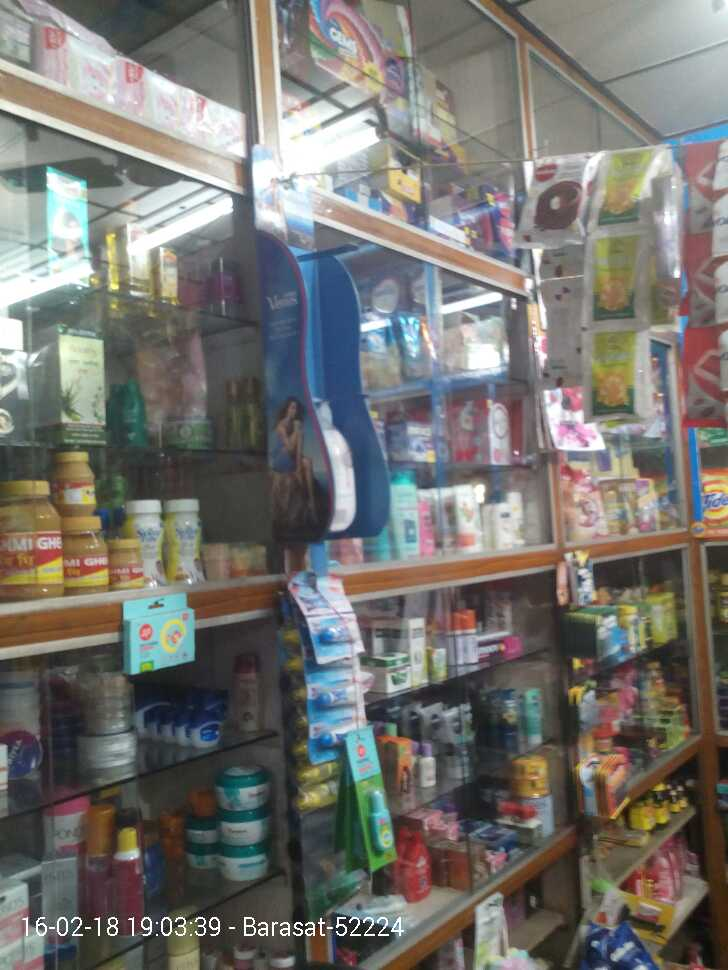reject: (295, 356, 381, 553)
